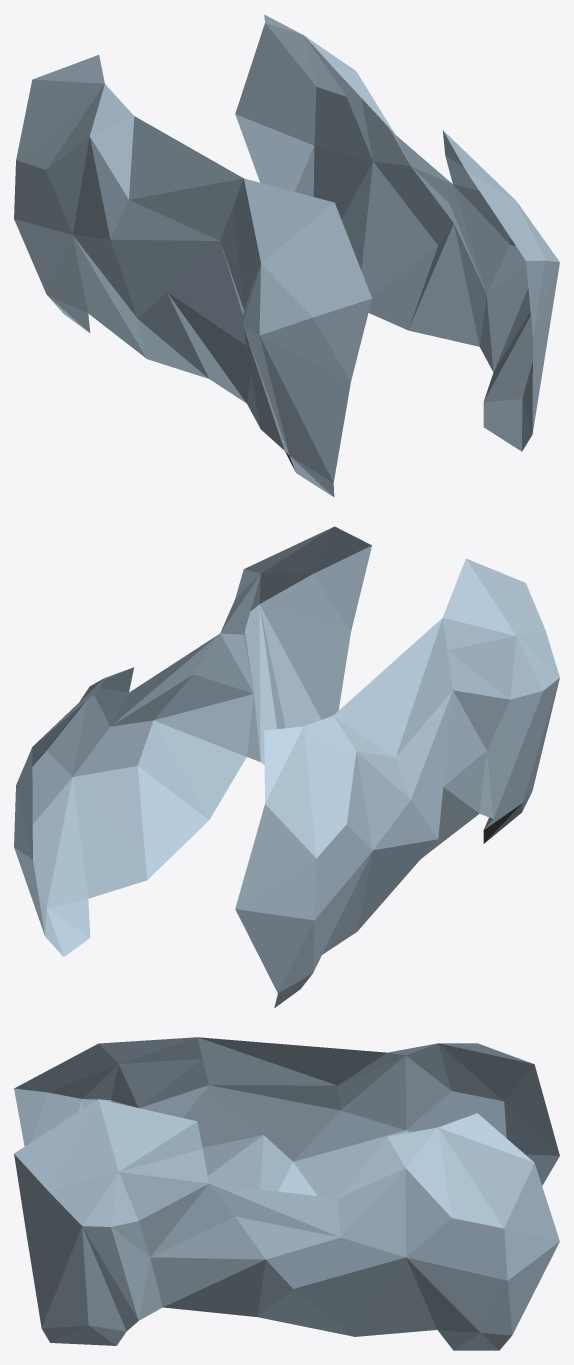
Rendered from attempt1.obj.
3 views of the same model, one above another, from view 1: azimuth 30°, elevation 25°; view 2: azimuth 150°, elevation 25°; view 3: azimuth 270°, elevation 25° (orthographic). The views are drawn at different scales.
Parts seen in each view (by area): view 1: Mesh1 Exterior_Revit_dwg_688959__3D_1 Model, Mesh2 Exterior_Revit_dwg_688959__3D_1 Model; view 2: Mesh1 Exterior_Revit_dwg_688959__3D_1 Model, Mesh2 Exterior_Revit_dwg_688959__3D_1 Model; view 3: Mesh2 Exterior_Revit_dwg_688959__3D_1 Model, Mesh1 Exterior_Revit_dwg_688959__3D_1 Model.
Part boxes in pixels (left/top/right/bottom): Mesh1 Exterior_Revit_dwg_688959__3D_1 Model: left=14, top=55, right=371, bottom=496; Mesh2 Exterior_Revit_dwg_688959__3D_1 Model: left=235, top=14, right=559, bottom=451; Mesh1 Exterior_Revit_dwg_688959__3D_1 Model: left=235, top=558, right=559, bottom=1007; Mesh2 Exterior_Revit_dwg_688959__3D_1 Model: left=14, top=526, right=371, bottom=956; Mesh2 Exterior_Revit_dwg_688959__3D_1 Model: left=14, top=1099, right=559, bottom=1350; Mesh1 Exterior_Revit_dwg_688959__3D_1 Model: left=14, top=1037, right=559, bottom=1198.
Size of the model in its own units: 217 by 187 by 395.
